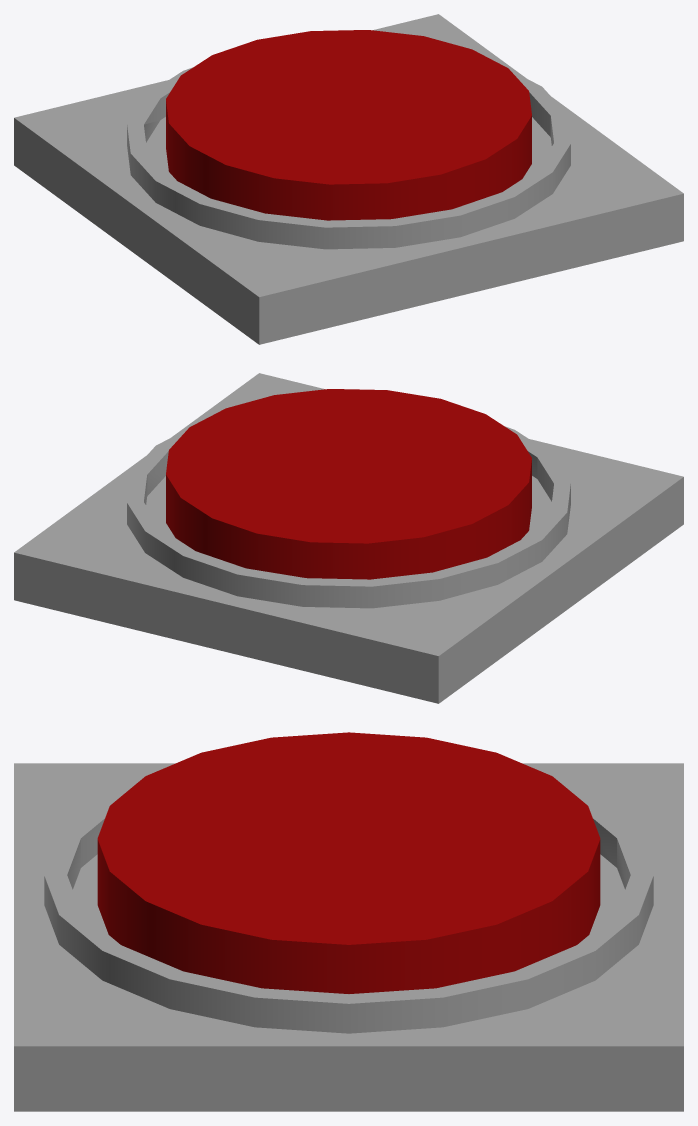
Rendered from button.fbx.
The picture shows the model from 3 angles, top to bottom: view 1: azimuth 30°, elevation 25°; view 2: azimuth 150°, elevation 25°; view 3: azimuth 270°, elevation 25°; orthographic projection. The views are drawn at different scales.
Parts seen in each view (by area): view 1: pCylinder7, pCylinder6; view 2: pCylinder7, pCylinder6; view 3: pCylinder7, pCylinder6.
Part boxes in pixels (left/top/right/bottom): pCylinder7: left=14, top=14, right=683, bottom=344; pCylinder6: left=166, top=30, right=531, bottom=220; pCylinder7: left=14, top=373, right=683, bottom=703; pCylinder6: left=166, top=389, right=531, bottom=579; pCylinder7: left=14, top=763, right=683, bottom=1111; pCylinder6: left=97, top=732, right=600, bottom=993.
Size of the model in its own units: 14 by 3.03 by 14.
